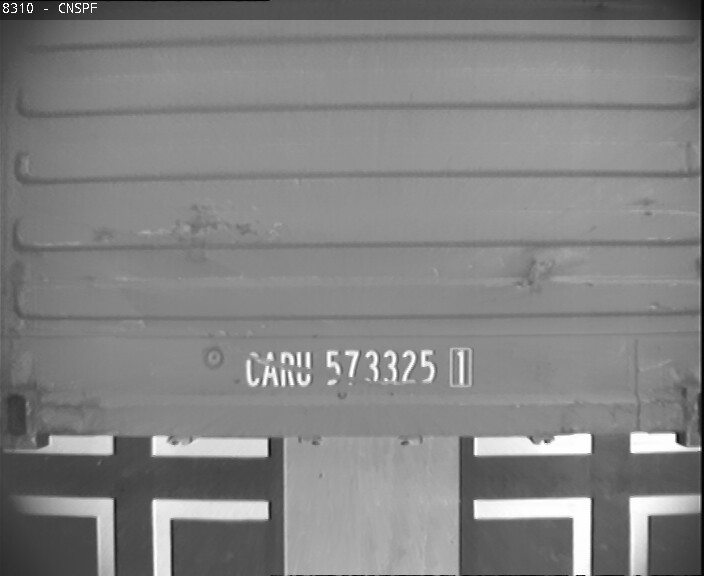groundmarker_1: (15, 497, 268, 576), (471, 497, 703, 576)
